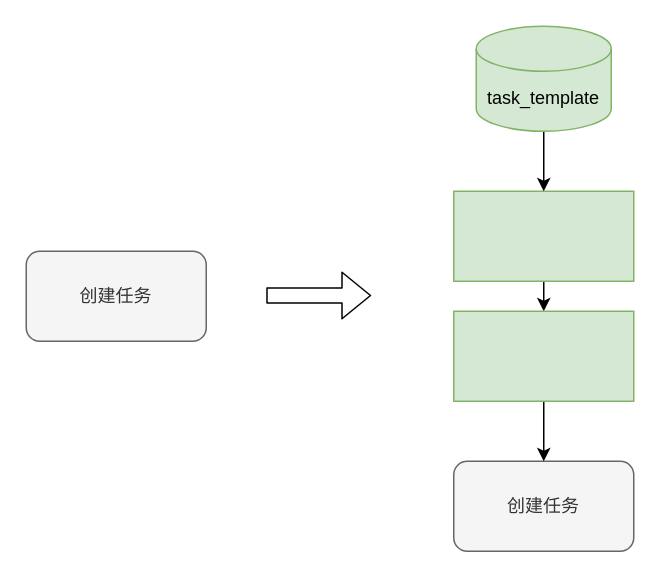
Image size: 660x578. Some labels were removed from this diagram. The centre of each missing label's shape, as x and y in pixels:
模版映射: point (543, 355)
模版解析: point (543, 235)
